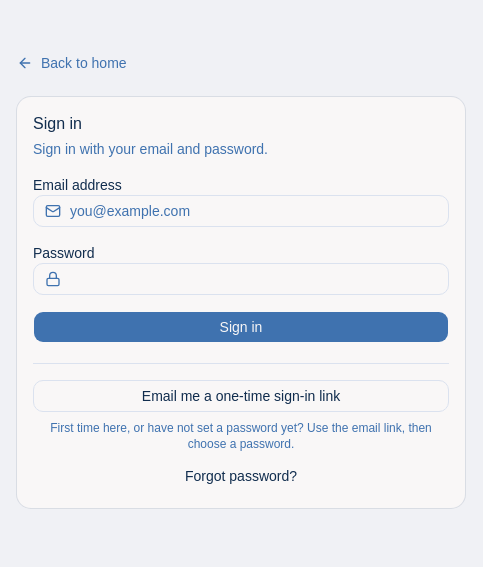
Login: password sign-in › shows a safe message for {"code":"over_request_rate_limit","status":429}
Type "person@example.test" into the field labelled "Email address".
click(241, 210); type("person@example.test")  # box [33,194,449,226]
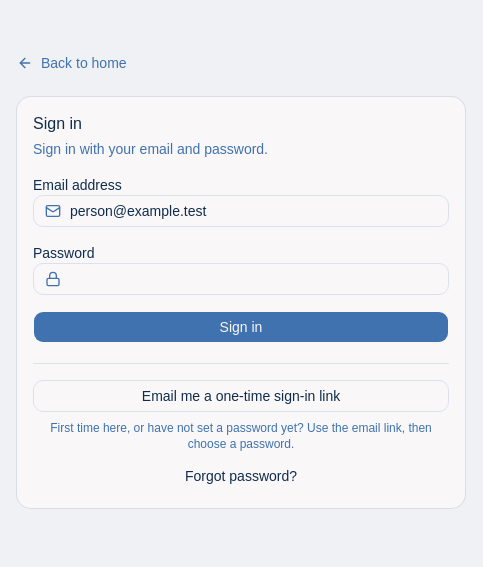
Type "wrong password" into the password field labelled "Password".
click(241, 278); type("wrong password")  # box [33,262,449,294]
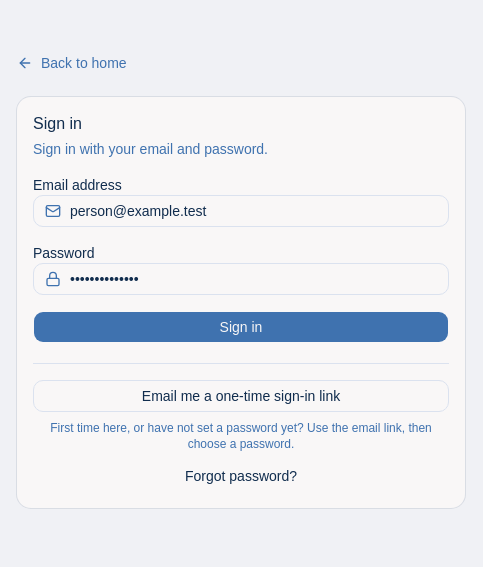
Click the button "Sign in".
click(241, 326)  # box [33,310,449,342]
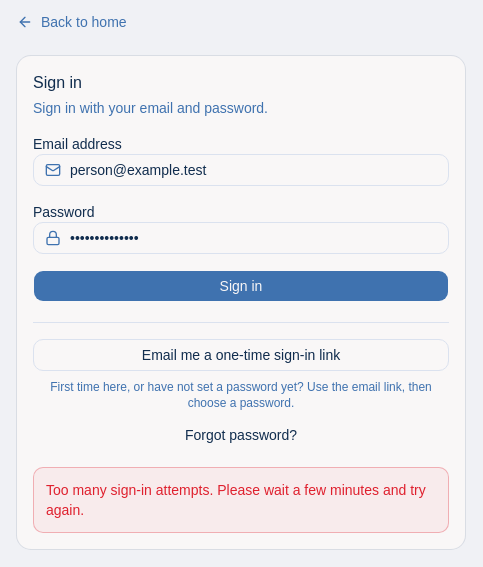
Expected: the message shows "Too many sign-in attempts", [46,482,426,518]
